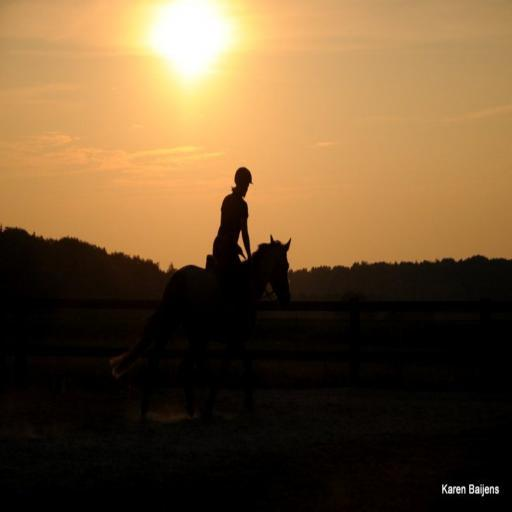Horse: (160, 233, 292, 321)
